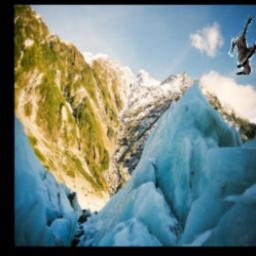Woodpecker: (228, 16, 256, 76)
